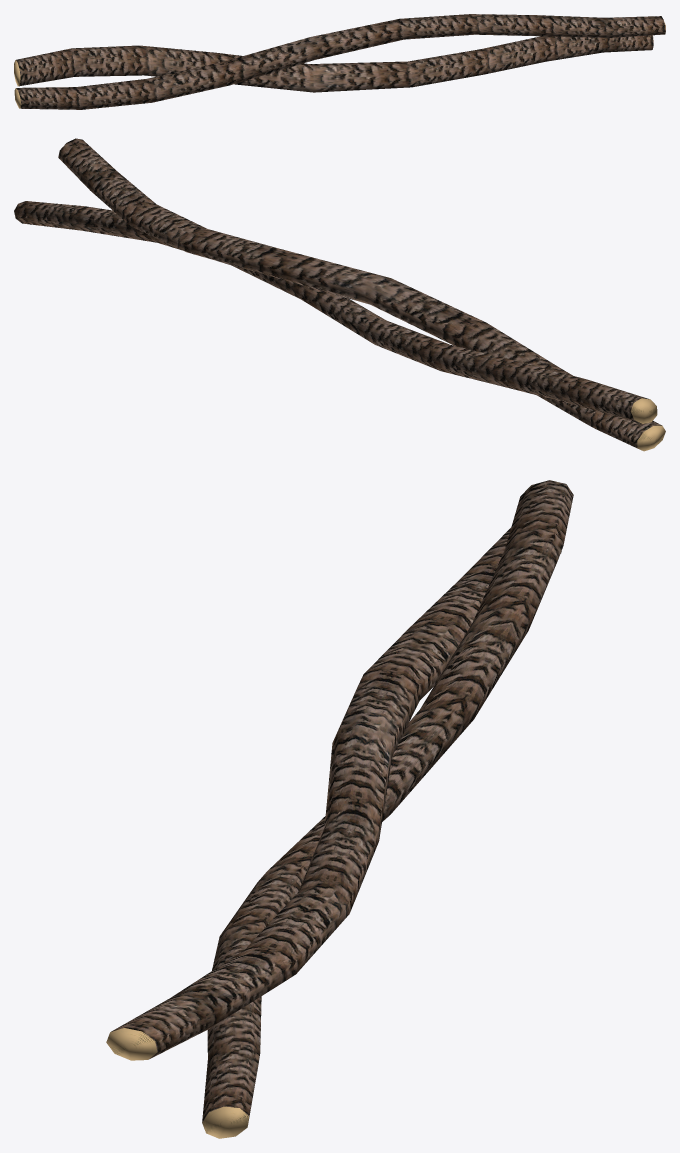
Rendered from PalmBridge2Shape.dae.
The picture shows the model from 3 angles, top to bottom: view 1: azimuth 30°, elevation 25°; view 2: azimuth 150°, elevation 25°; view 3: azimuth 270°, elevation 25°; orthographic projection. The views are drawn at different scales.
Parts seen in each view (by area): view 1: PalmBridge2; view 2: PalmBridge2; view 3: PalmBridge2.
Part boxes in pixels (x1=…): PalmBridge2: x1=14, y1=14, x2=665, y2=109; PalmBridge2: x1=14, y1=138, x2=665, y2=451; PalmBridge2: x1=106, y1=480, x2=573, y2=1138.
Size of the model in its own units: 122 by 12.69 by 43.92.
